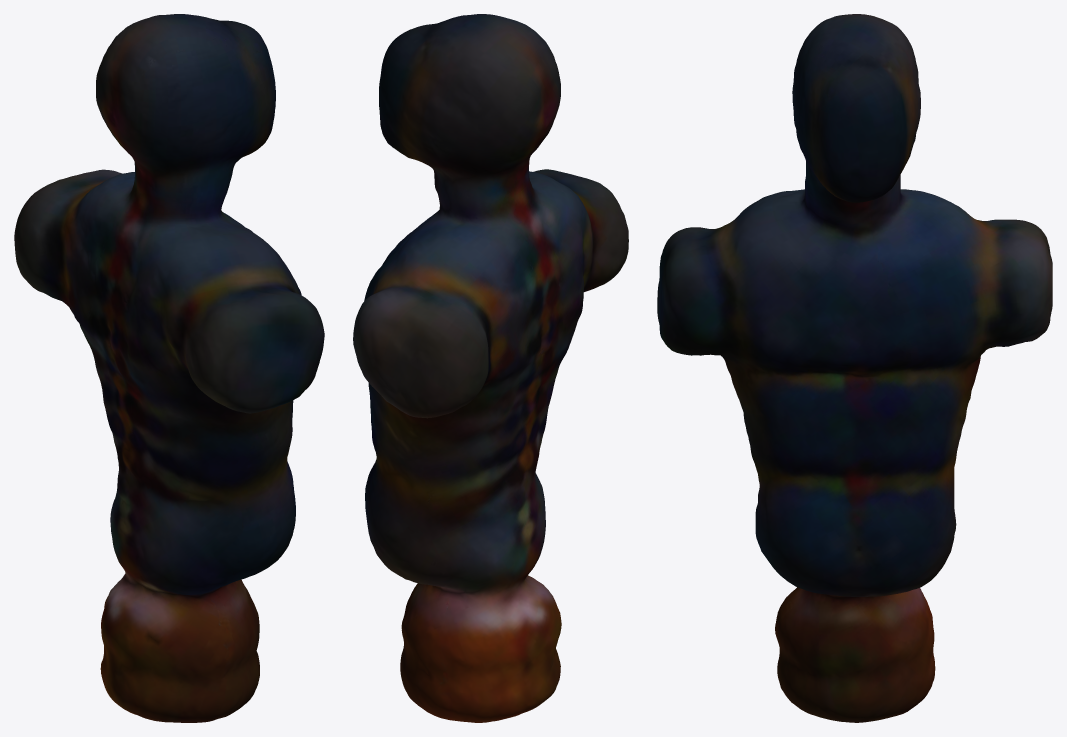
Rendered from Trainin_Dummy.fbx.
3 renders of one model, left to right at view 1: azimuth 30°, elevation 25°; view 2: azimuth 150°, elevation 25°; view 3: azimuth 270°, elevation 25°, orthographic.
Visible parts, largest first — view 1: Mesh1; view 2: Mesh1; view 3: Mesh1.
Part boxes in pixels (x1,y1,x2,y2): Mesh1: [14, 14, 324, 722]; Mesh1: [353, 14, 628, 722]; Mesh1: [657, 14, 1052, 722].
Bounding box in the file's own units: 31.62 × 120 × 63.46.
1 material, 1 textured.
